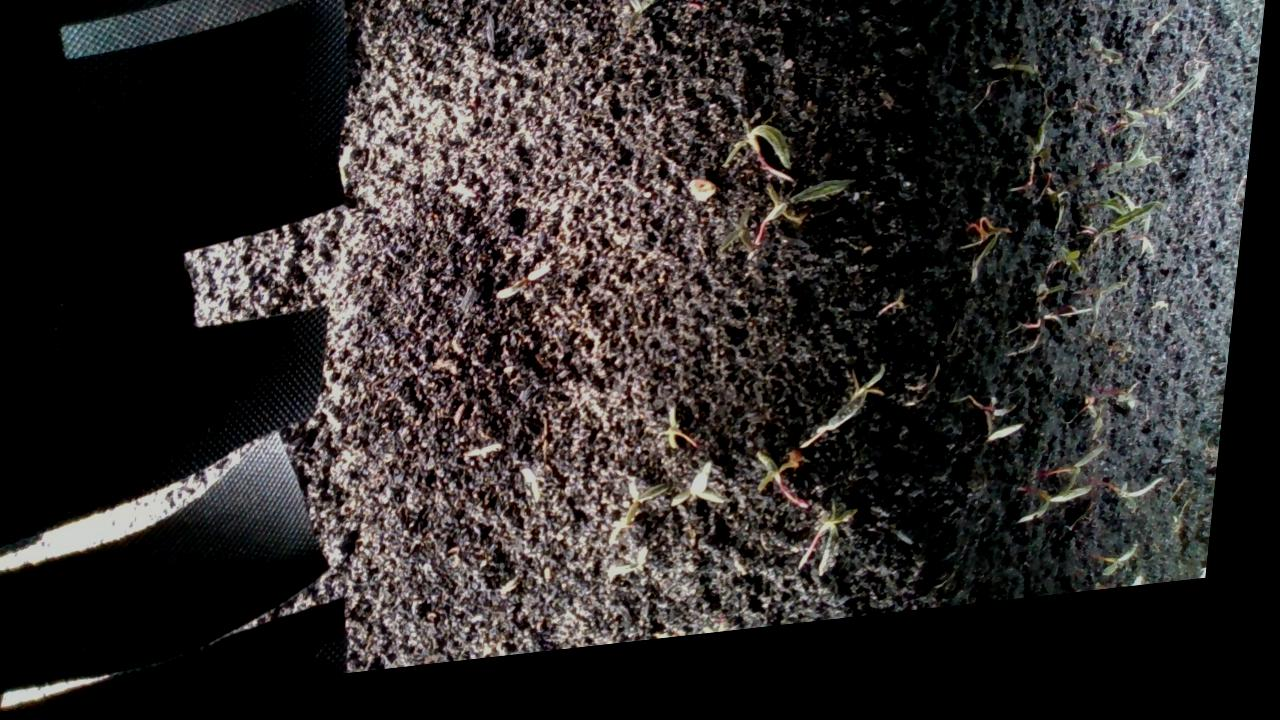weed: (964, 239, 1027, 309)
